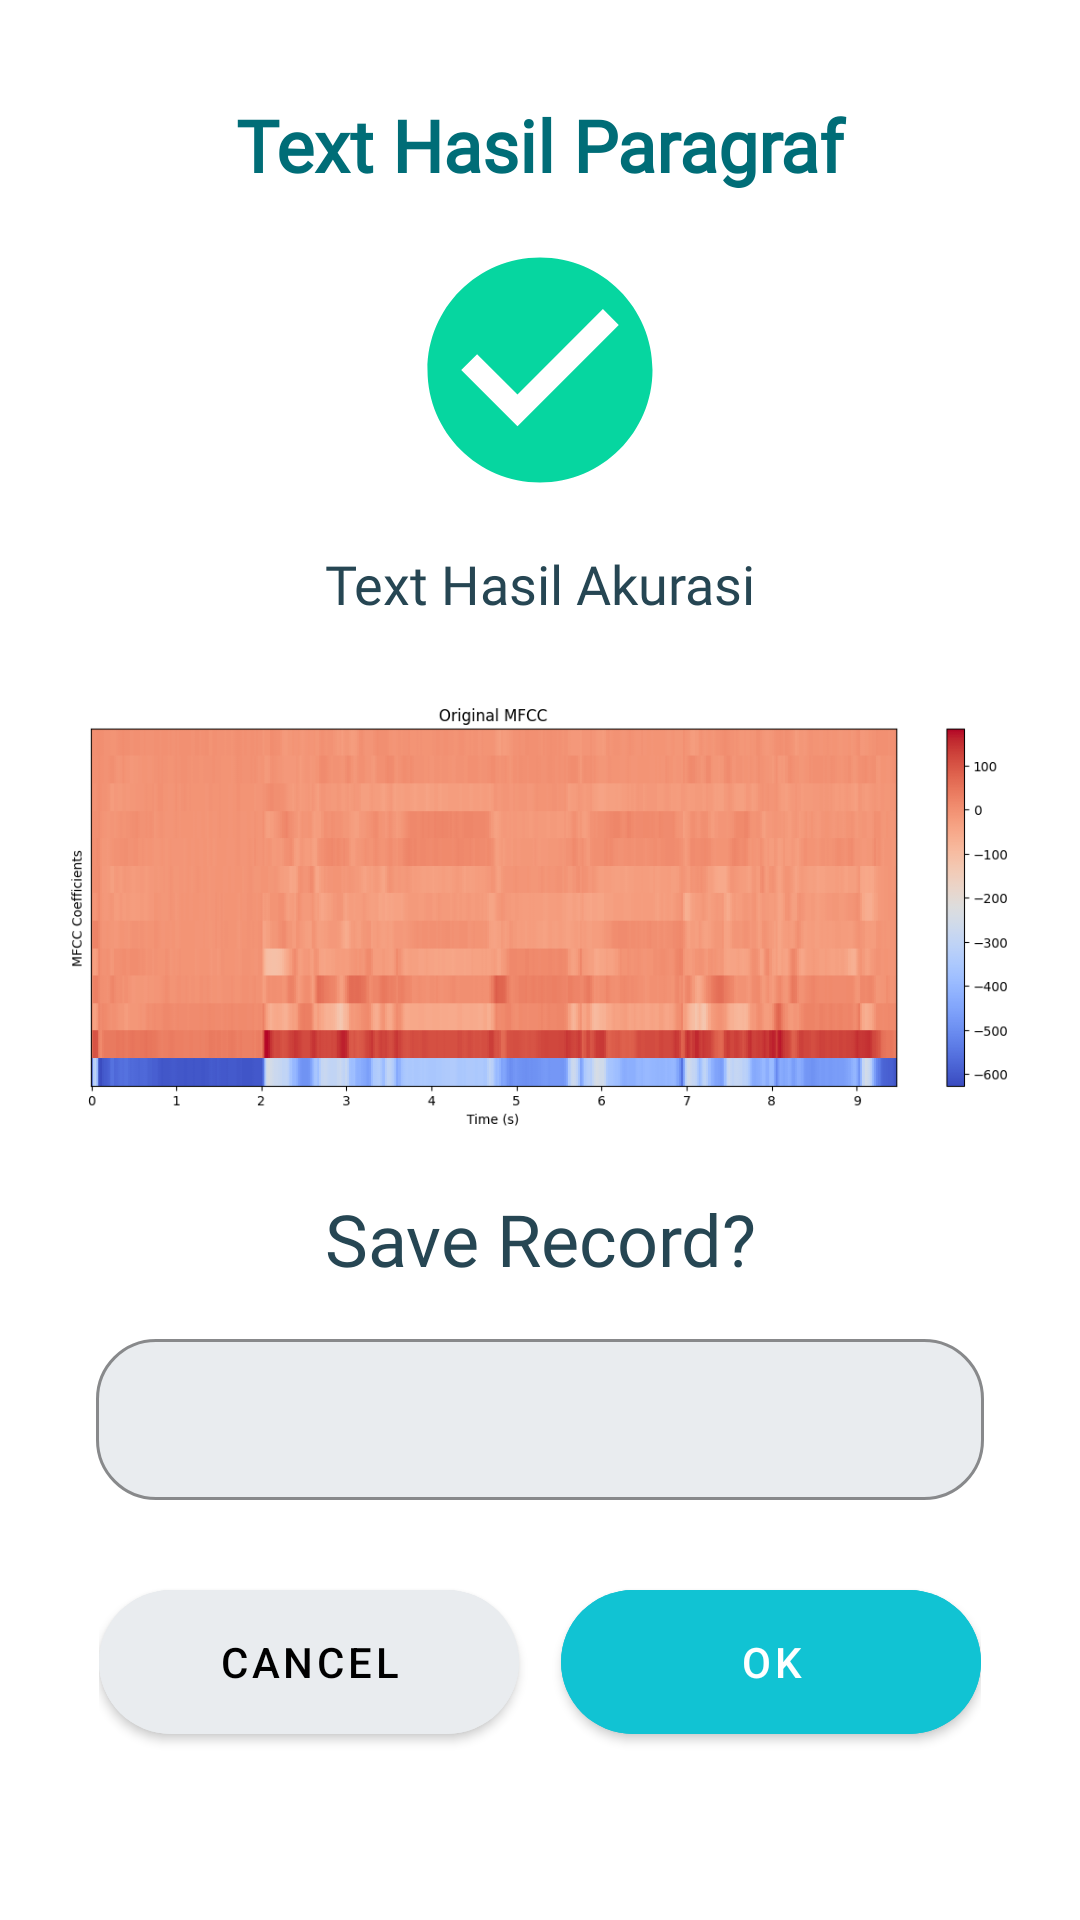

Named icons in this screenshot (1080px×1920px) and their centers, (x=x, y=y):
kategori good: (x=540, y=370)
